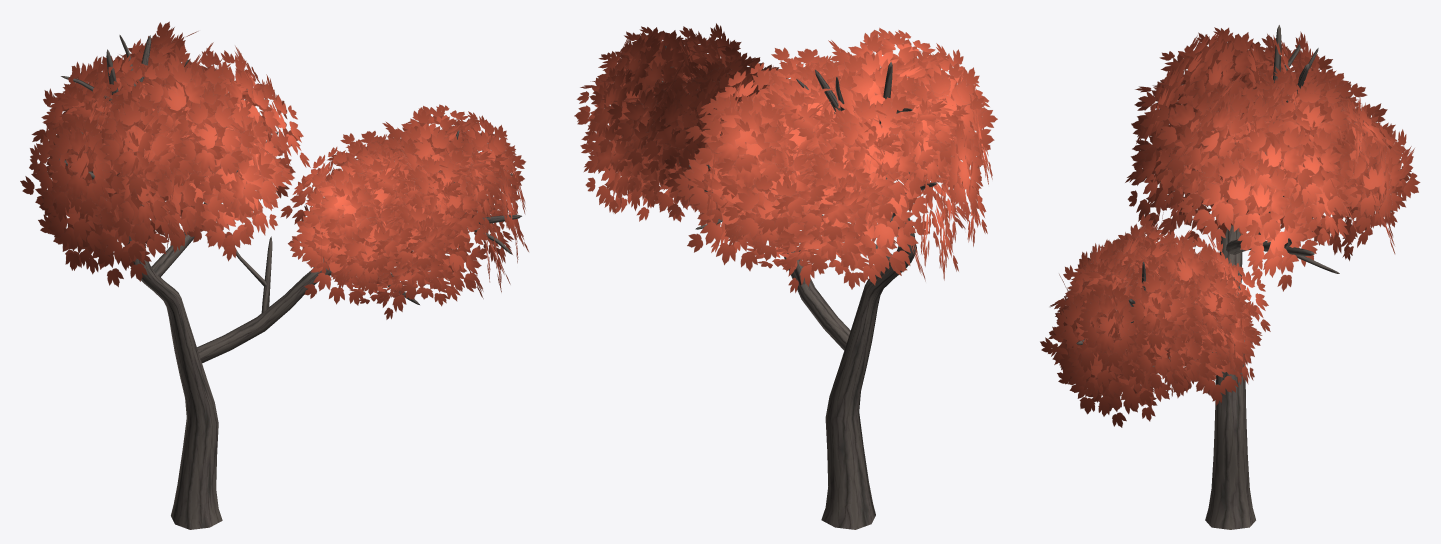
File: MapleTree_1.gltf
3 views of the same model, side by side, from view 1: azimuth 30°, elevation 25°; view 2: azimuth 150°, elevation 25°; view 3: azimuth 270°, elevation 25° (orthographic). The views are drawn at different scales.
Parts seen in each view (by area): view 1: MapleTree_1; view 2: MapleTree_1; view 3: MapleTree_1.
Boxes of the visible parts, bbox=[...] form: MapleTree_1: bbox=[20, 21, 528, 529]; MapleTree_1: bbox=[574, 23, 997, 529]; MapleTree_1: bbox=[1040, 25, 1420, 529].
Size of the model in its own units: 6.23 by 6.64 by 4.9.
2 materials, 2 textured.
